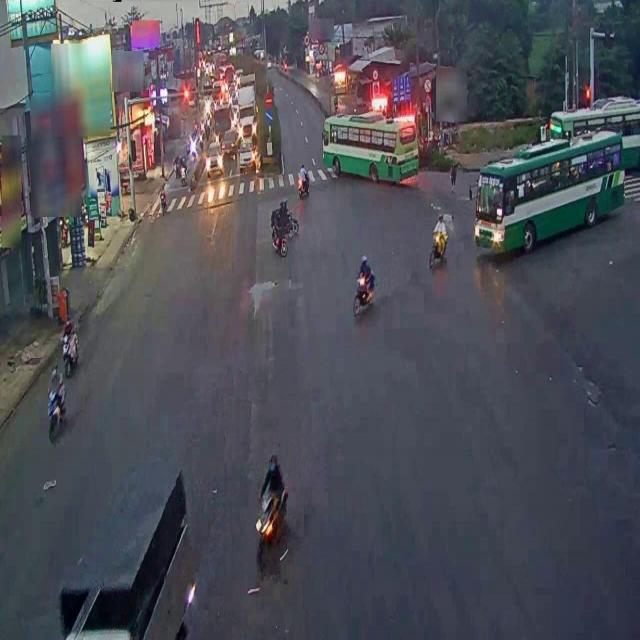bus: (320, 116, 422, 189)
motorcycle: (256, 453, 287, 573), (46, 360, 66, 440), (355, 252, 376, 314), (427, 214, 447, 271), (298, 160, 310, 198)
truck: (54, 479, 195, 640)
